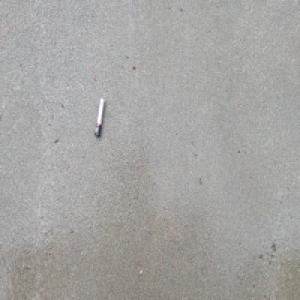Battery: (93, 96, 104, 138)
